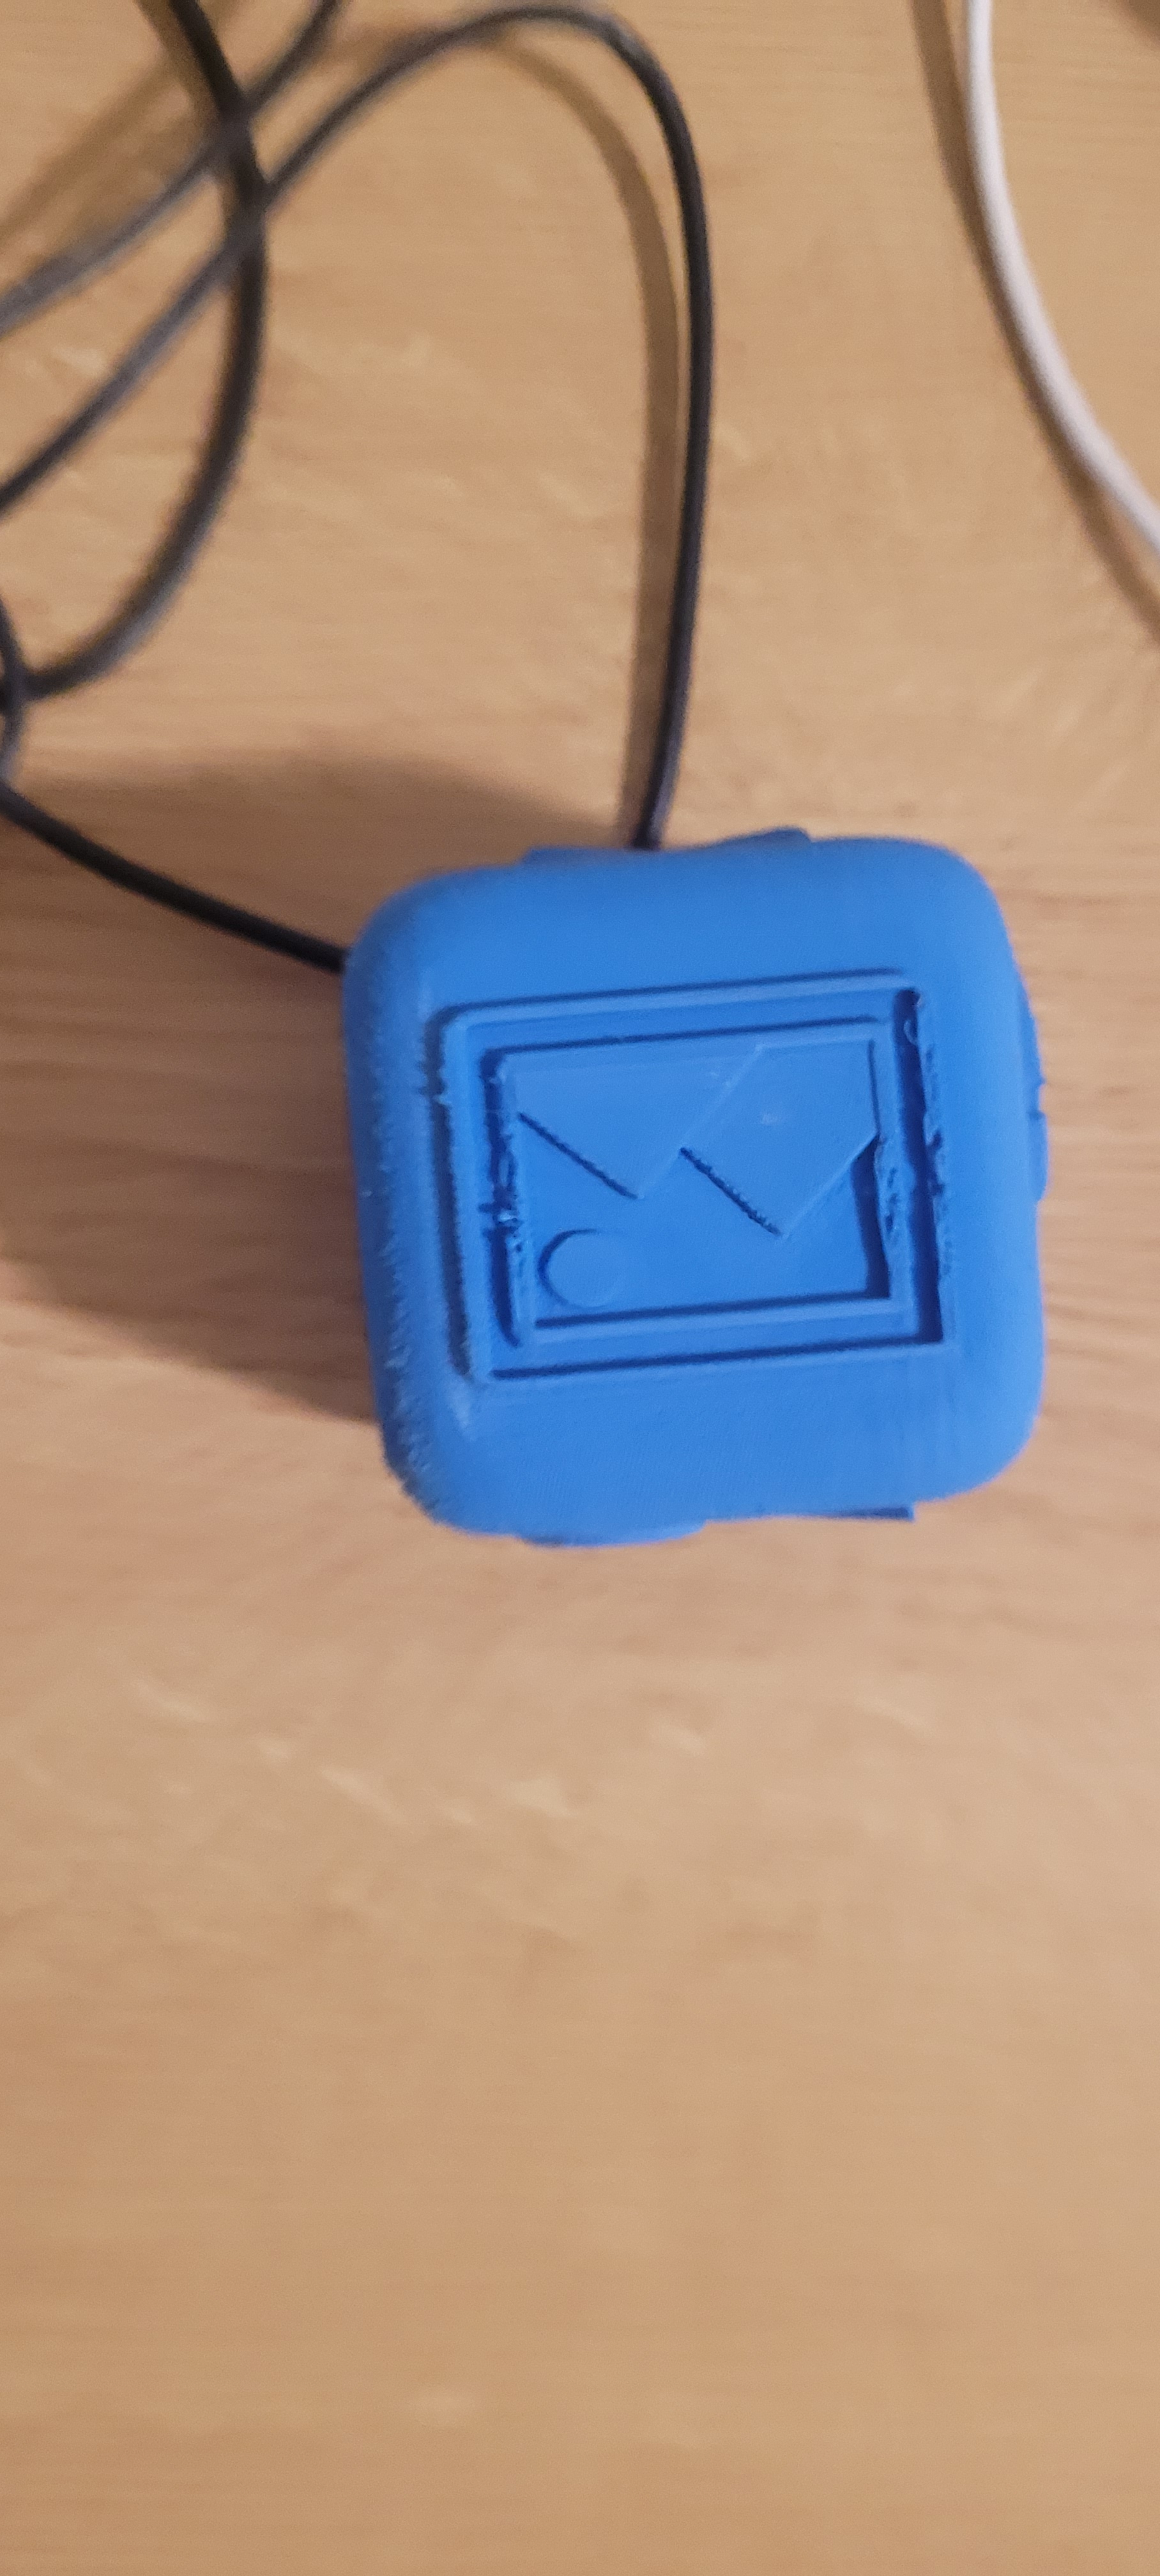Story: (393, 969, 976, 1400)
